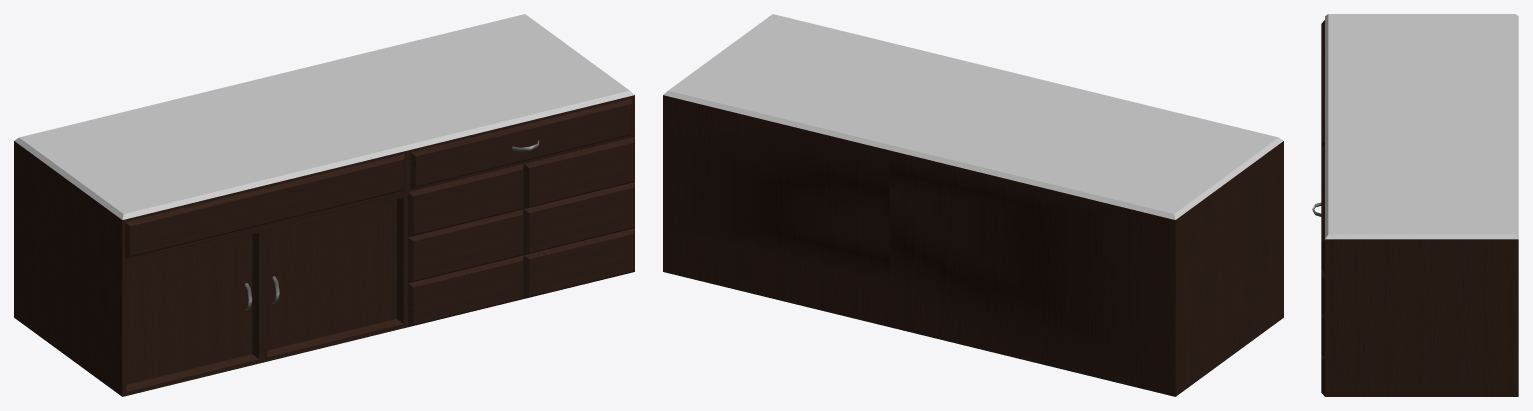
The model's file is Kitchen_Counter_A.FBX.
3 renders of one model, left to right at view 1: azimuth 30°, elevation 25°; view 2: azimuth 150°, elevation 25°; view 3: azimuth 270°, elevation 25°, orthographic. The views are drawn at different scales.
Visible parts, largest first — view 1: Kitchen_Counter_A; view 2: Kitchen_Counter_A; view 3: Kitchen_Counter_A.
Boxes of the visible parts, x1,y1,x2,y2 form: Kitchen_Counter_A: (14, 14, 634, 396); Kitchen_Counter_A: (663, 14, 1283, 396); Kitchen_Counter_A: (1312, 14, 1518, 396).
Size of the model in its own units: 409 by 138 by 160.
